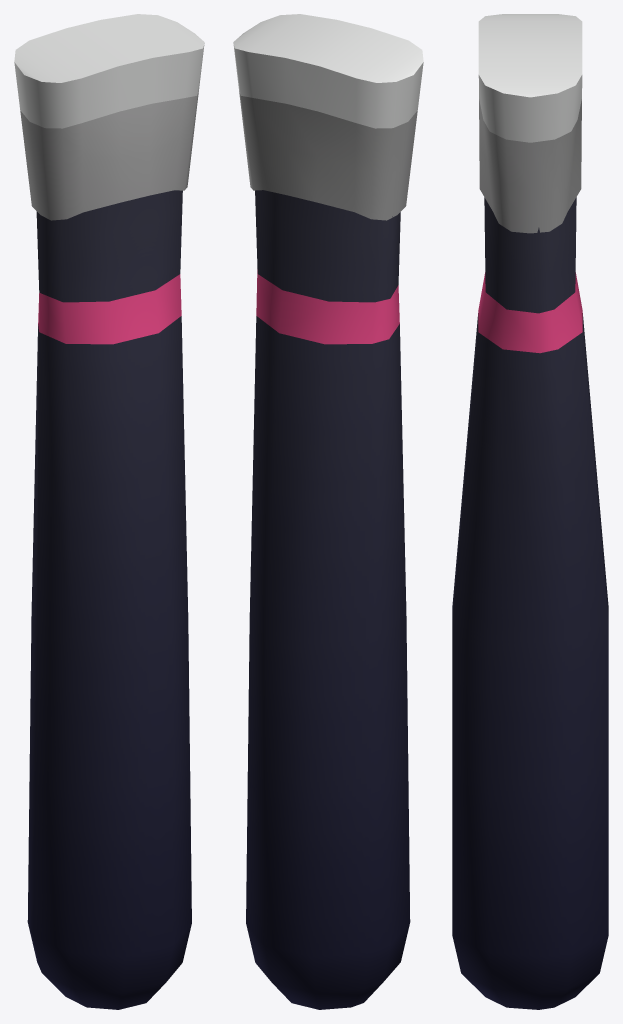
The model's file is Brush_04.fbx.
3 renders of one model, left to right at view 1: azimuth 30°, elevation 25°; view 2: azimuth 150°, elevation 25°; view 3: azimuth 270°, elevation 25°, orthographic.
Parts seen in each view (by area): view 1: Brush_04; view 2: Brush_04; view 3: Brush_04.
Boxes of the visible parts, left/top/right/bottom form: Brush_04: left=14, top=14, right=204, bottom=1009; Brush_04: left=233, top=14, right=423, bottom=1009; Brush_04: left=452, top=14, right=608, bottom=1009.
Size of the model in its own units: 0.0226 by 0.1216 by 0.018.
Materials: 1 (1 with a texture image).
